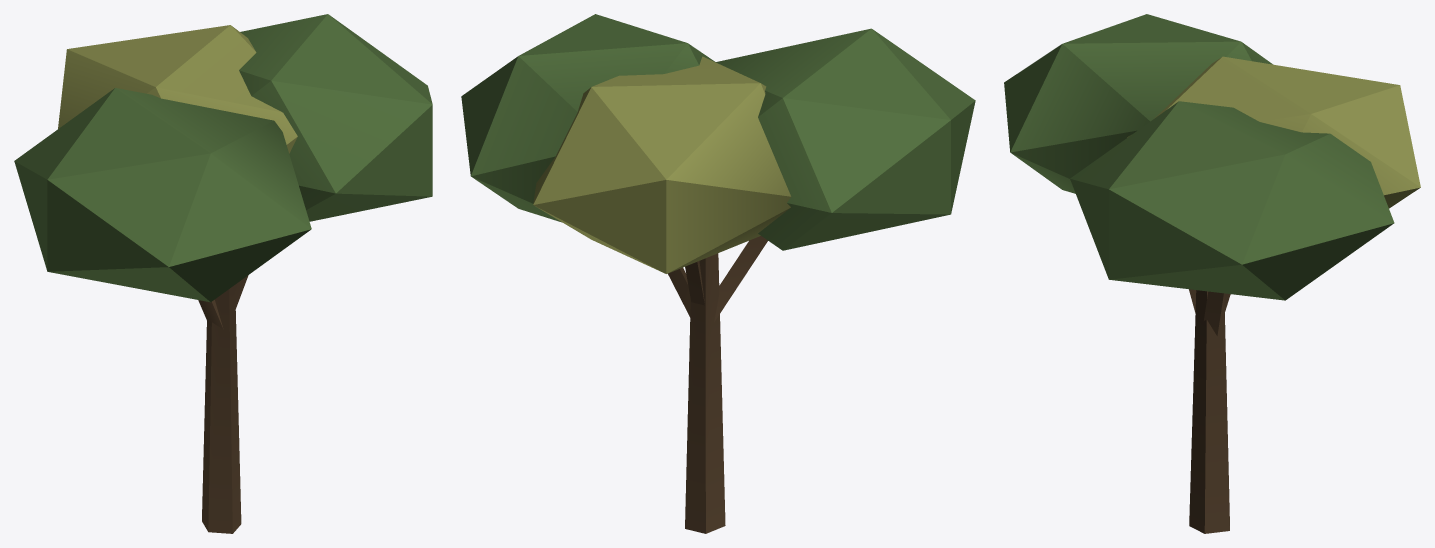
The model's file is tree-pine-2.glb.
3 renders of one model, left to right at view 1: azimuth 30°, elevation 25°; view 2: azimuth 150°, elevation 25°; view 3: azimuth 270°, elevation 25°, orthographic. The views are drawn at different scales.
Visible parts, largest first — view 1: tree-pine-2; view 2: tree-pine-2; view 3: tree-pine-2.
Boxes of the visible parts, <box> form: tree-pine-2: <box>14,14,432,533</box>; tree-pine-2: <box>461,14,975,533</box>; tree-pine-2: <box>1004,14,1420,533</box>.
Bounding box in the file's own units: 14 × 14 × 12.
